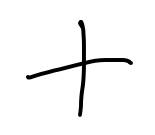plus: (26, 20, 133, 116)
